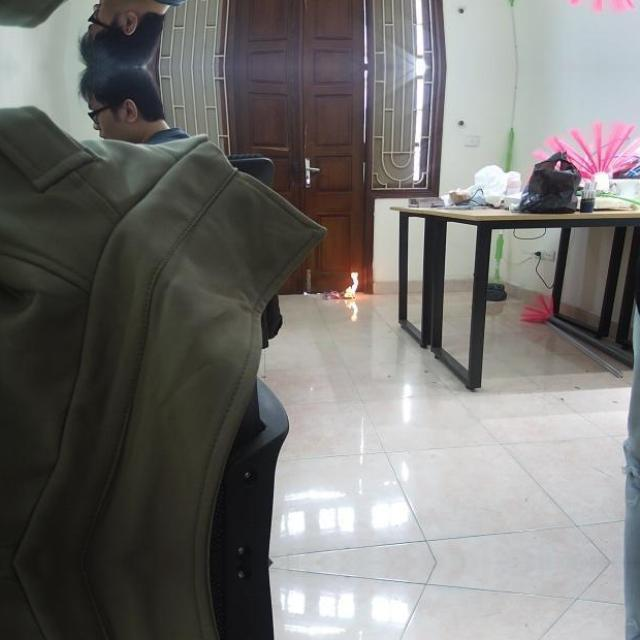smoke: (342, 270, 360, 298)
